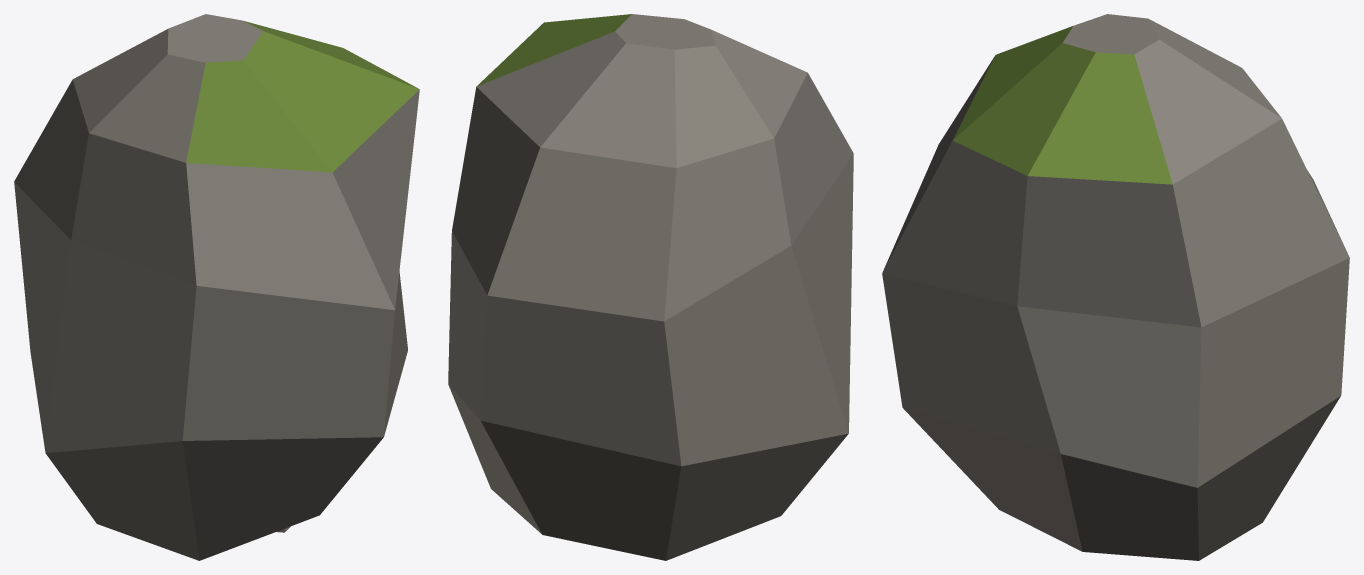
The model's file is rock_d.glb.
The picture shows the model from 3 angles, left to right: view 1: azimuth 30°, elevation 25°; view 2: azimuth 150°, elevation 25°; view 3: azimuth 270°, elevation 25°; orthographic projection.
Visible parts, largest first — view 1: rock_d; view 2: rock_d; view 3: rock_d.
Part boxes in pixels (x1=…): rock_d: x1=14, y1=14, x2=419, y2=560; rock_d: x1=448, y1=14, x2=853, y2=560; rock_d: x1=882, y1=14, x2=1349, y2=560.
Bounding box in the file's own units: 1.05 × 1.35 × 1.2.
